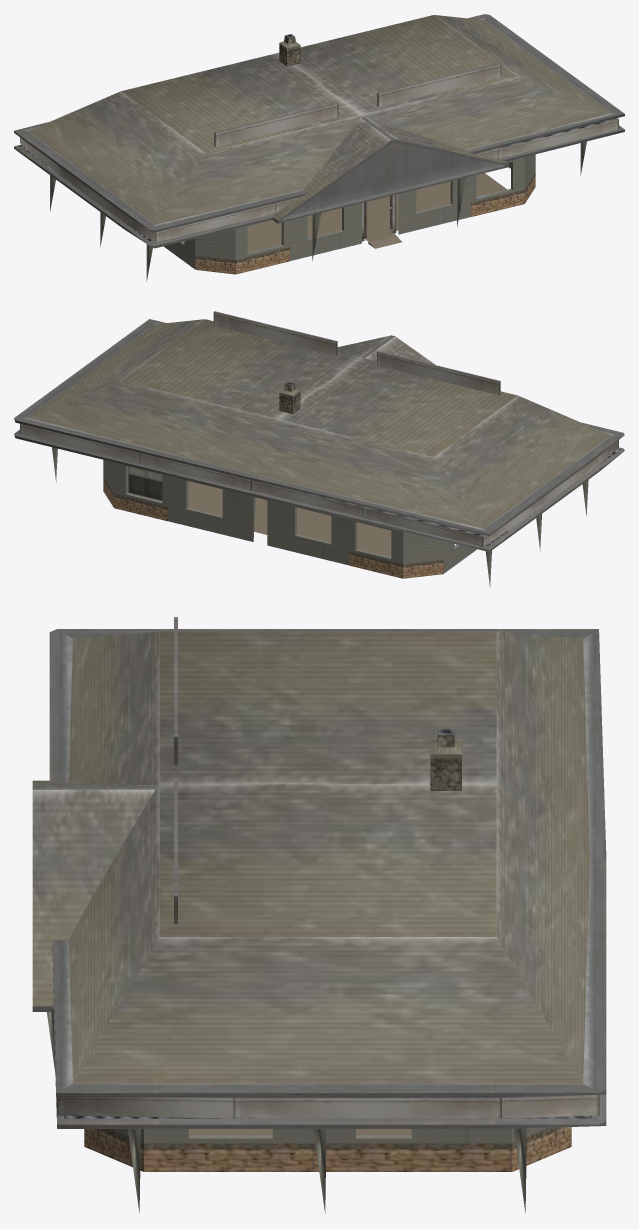
Rendered from rural-wood-4.walls-v1.lod1.glb.
3 views of the same model, one above another, from view 1: azimuth 30°, elevation 25°; view 2: azimuth 150°, elevation 25°; view 3: azimuth 270°, elevation 25° (orthographic). The views are drawn at different scales.
Visible parts, largest first — view 1: Rural_WoodenBuilding_4_Rural_Housetrim_1_0, Rural_WoodenBuilding_4_Rural_Walltrim_1_0, Rural_WoodenBuilding_4_Rural_Facade_FLR_2_0, Walkable floors and stairs; view 2: Rural_WoodenBuilding_4_Rural_Housetrim_1_0, Rural_WoodenBuilding_4_Rural_Facade_FLR_2_0, Rural_WoodenBuilding_4_Rural_Walltrim_1_0, Walkable floors and stairs; view 3: Rural_WoodenBuilding_4_Rural_Housetrim_1_0, Rural_WoodenBuilding_4_Rural_Facade_FLR_2_0, Rural_WoodenBuilding_4_Rural_Walltrim_1_0, Walkable floors and stairs.
Boxes of the visible parts, x1=… form: Rural_WoodenBuilding_4_Rural_Housetrim_1_0: x1=14, y1=14, x2=624, y2=274; Rural_WoodenBuilding_4_Rural_Walltrim_1_0: x1=50, y1=140, x2=586, y2=281; Rural_WoodenBuilding_4_Rural_Facade_FLR_2_0: x1=20, y1=62, x2=618, y2=242; Walkable floors and stairs: x1=247, y1=173, x2=506, y2=252; Rural_WoodenBuilding_4_Rural_Housetrim_1_0: x1=14, y1=319, x2=624, y2=578; Rural_WoodenBuilding_4_Rural_Facade_FLR_2_0: x1=20, y1=311, x2=618, y2=546; Rural_WoodenBuilding_4_Rural_Walltrim_1_0: x1=52, y1=447, x2=588, y2=587; Walkable floors and stairs: x1=188, y1=481, x2=391, y2=556; Rural_WoodenBuilding_4_Rural_Housetrim_1_0: x1=32, y1=629, x2=606, y2=1171; Rural_WoodenBuilding_4_Rural_Facade_FLR_2_0: x1=56, y1=617, x2=599, y2=1118; Rural_WoodenBuilding_4_Rural_Walltrim_1_0: x1=47, y1=1012, x2=547, y2=1213; Walkable floors and stairs: x1=189, y1=1129, x2=411, y2=1135.
Size of the model in its own units: 27.73 by 7.64 by 14.49.
Materials: 4 (3 with a texture image).
